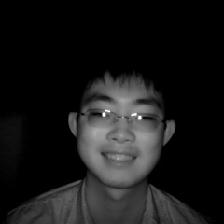happy: (64, 54, 179, 190)
